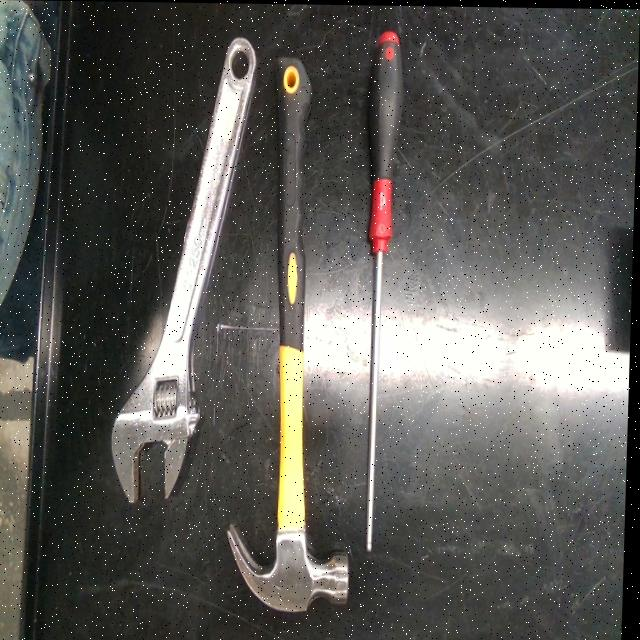Screwdriver: (369, 29, 403, 550)
